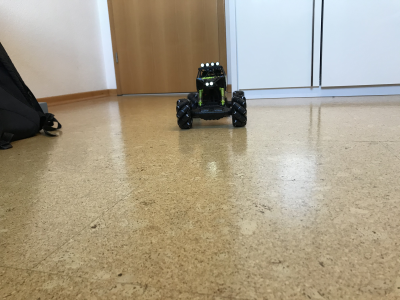remote control car: (169, 60, 251, 131)
